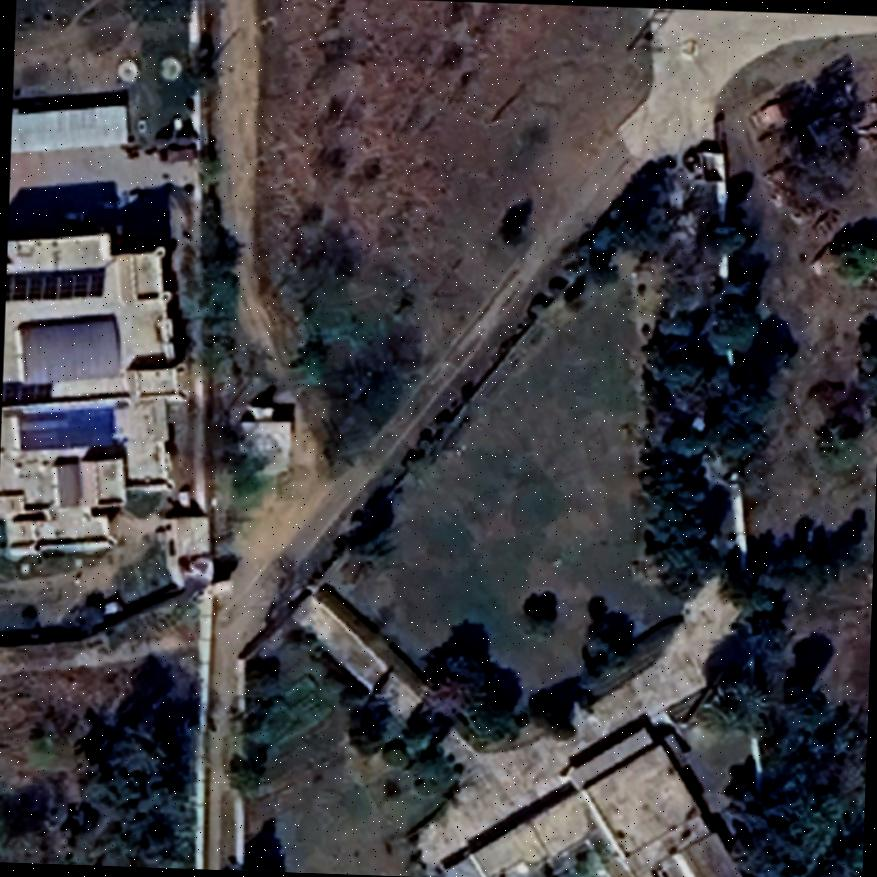Solarpanel: (4, 259, 110, 308), (1, 376, 56, 410)
